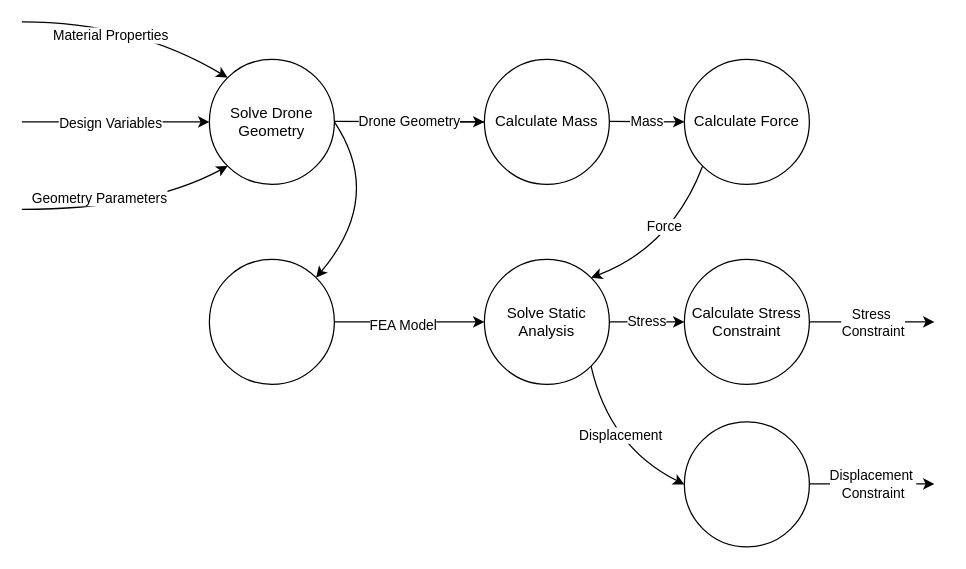
This 966x569 diagram has some shape labels left out. The centre of each missing label's shape, as x and y in pixels:
Calculate Displacement Constraint: point (746, 484)
Create Beam Model: point (271, 321)
